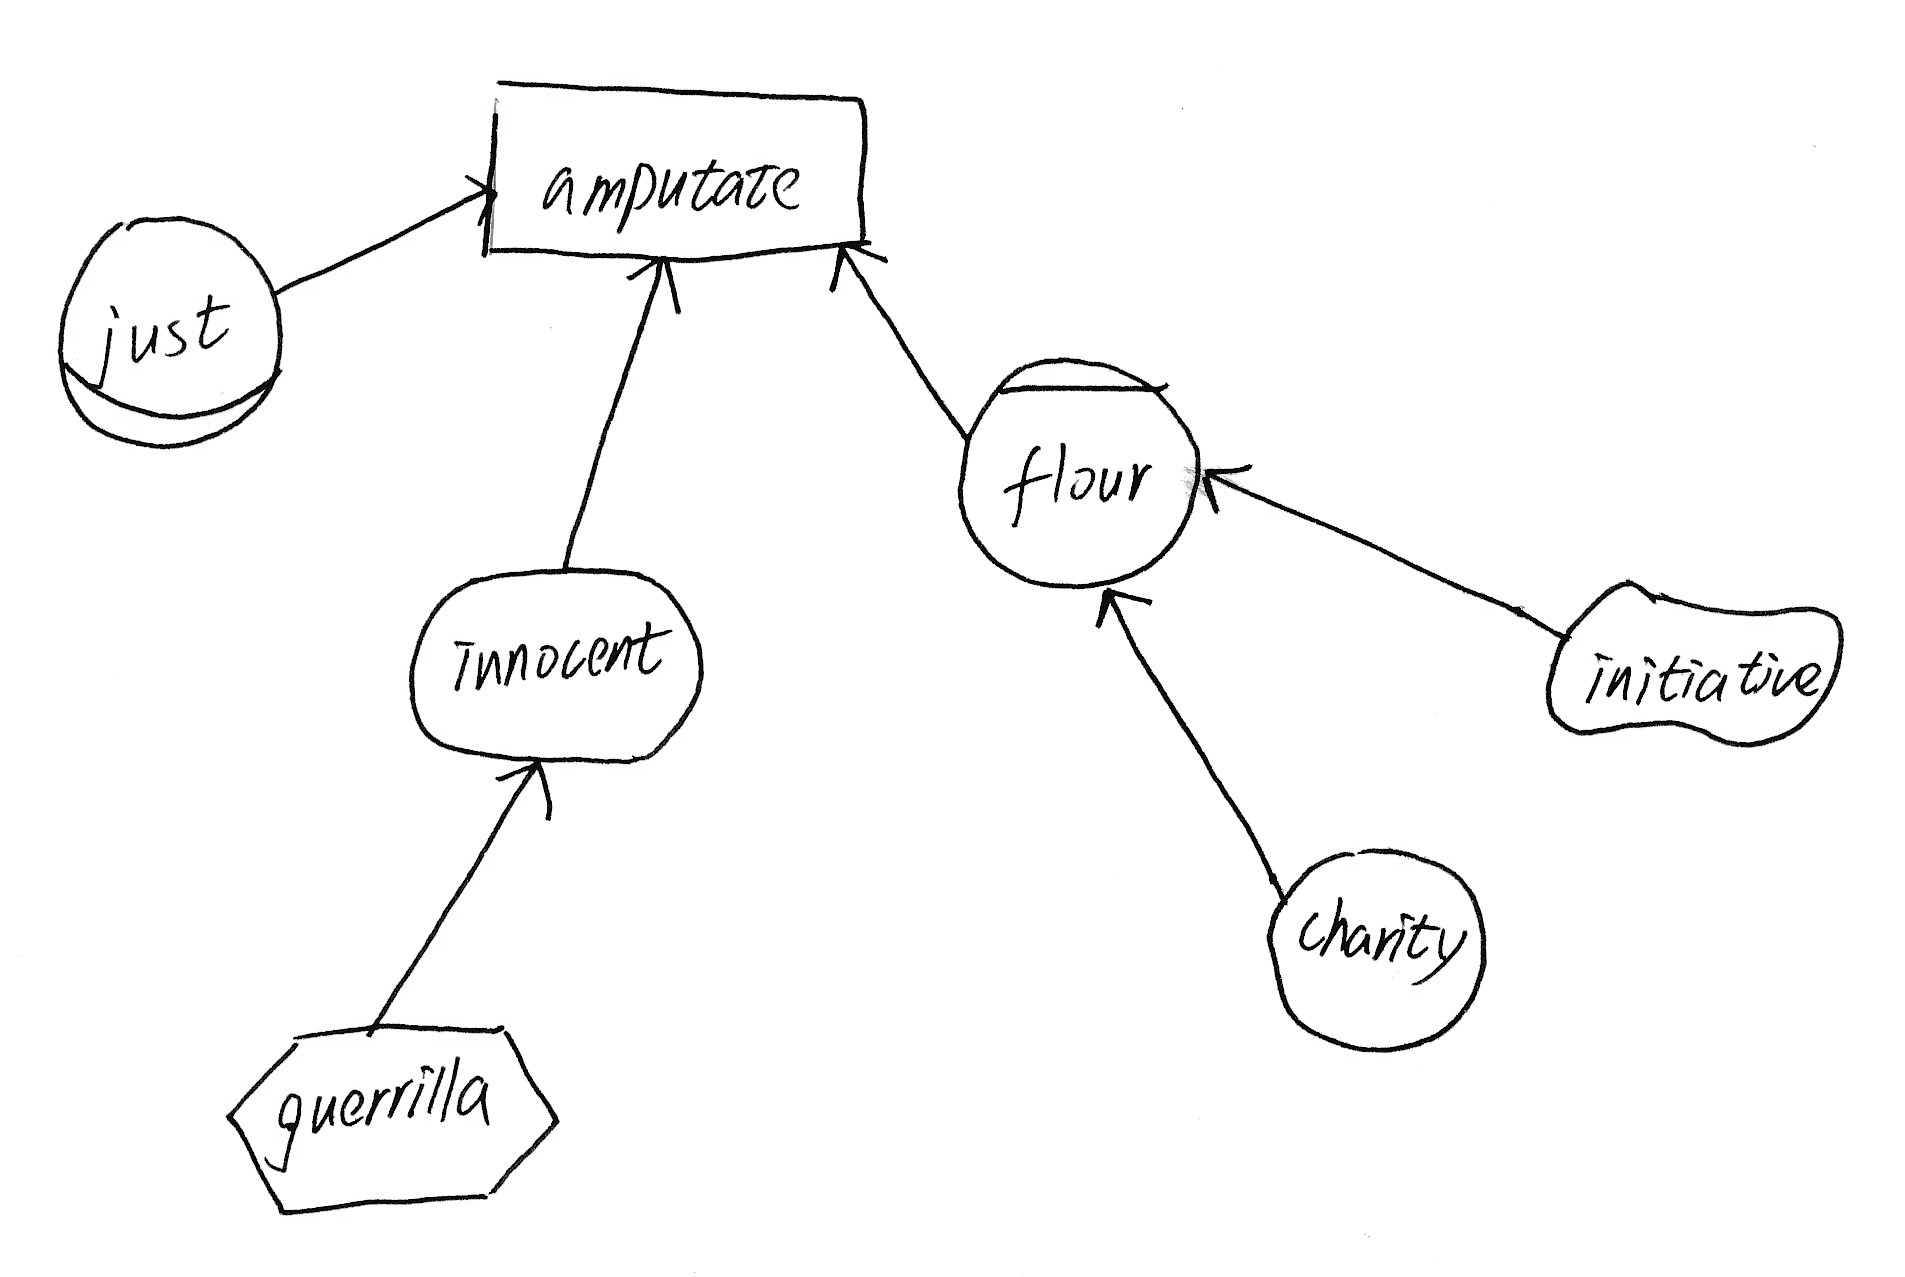actor: (1252, 829, 1497, 1066)
agent: (945, 334, 1218, 604)
arrow: (484, 750, 573, 827), (621, 238, 692, 331), (824, 227, 896, 308), (1080, 574, 1161, 637), (1193, 455, 1262, 517), (453, 162, 509, 237)
goal: (393, 552, 718, 777)
quality: (1527, 562, 1859, 762)
resource: (466, 56, 888, 276)
role: (41, 198, 299, 463)
task: (212, 1002, 573, 1227)
